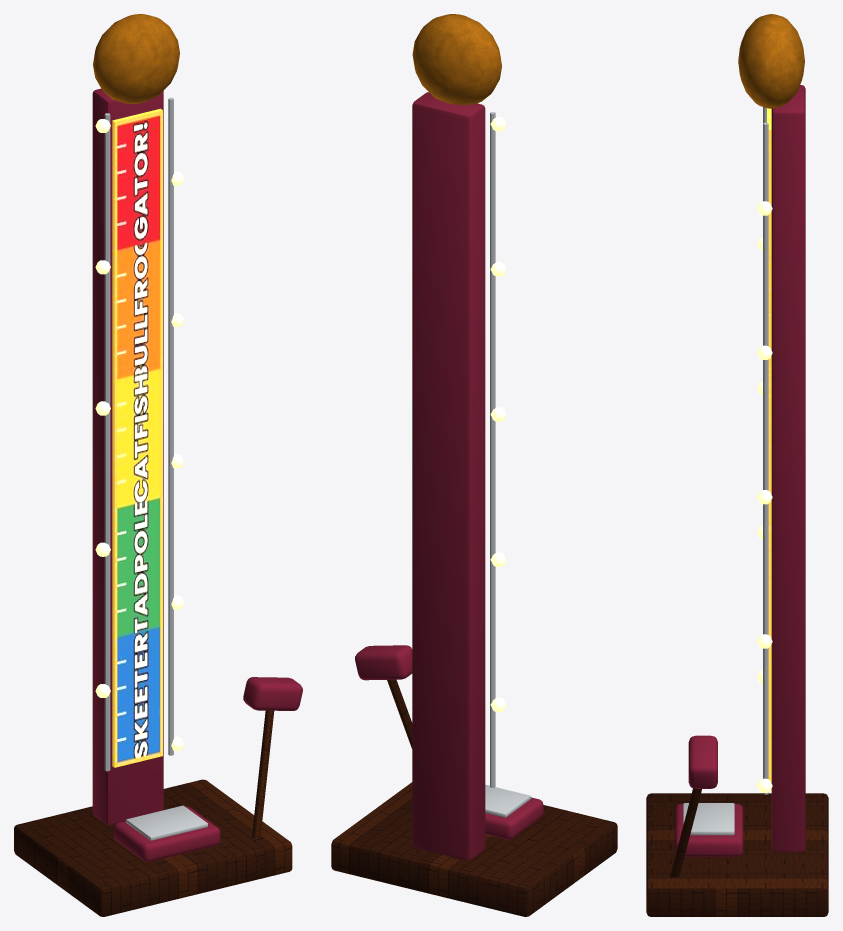
File: striker.glb
3 renders of one model, left to right at view 1: azimuth 30°, elevation 25°; view 2: azimuth 150°, elevation 25°; view 3: azimuth 270°, elevation 25°, orthographic. The views are drawn at different scales.
Visible parts, largest first — view 1: striker; view 2: striker; view 3: striker.
Boxes of the visible parts, x1,y1,x2,y2 form: striker: (14,14,302,916); striker: (331,14,617,916); striker: (646,14,828,916).
Size of the model in its own units: 2.33 by 8.27 by 1.6.
Materials: 6 (3 with a texture image).
